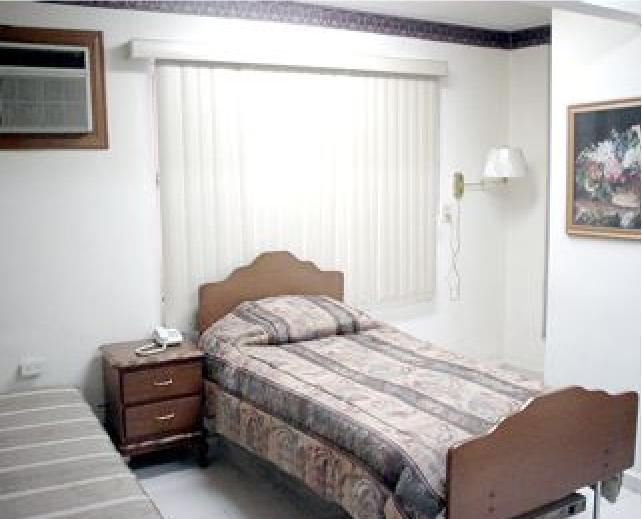Cama: (193, 231, 636, 517), (8, 345, 162, 518)
Ventana: (158, 58, 432, 305)
